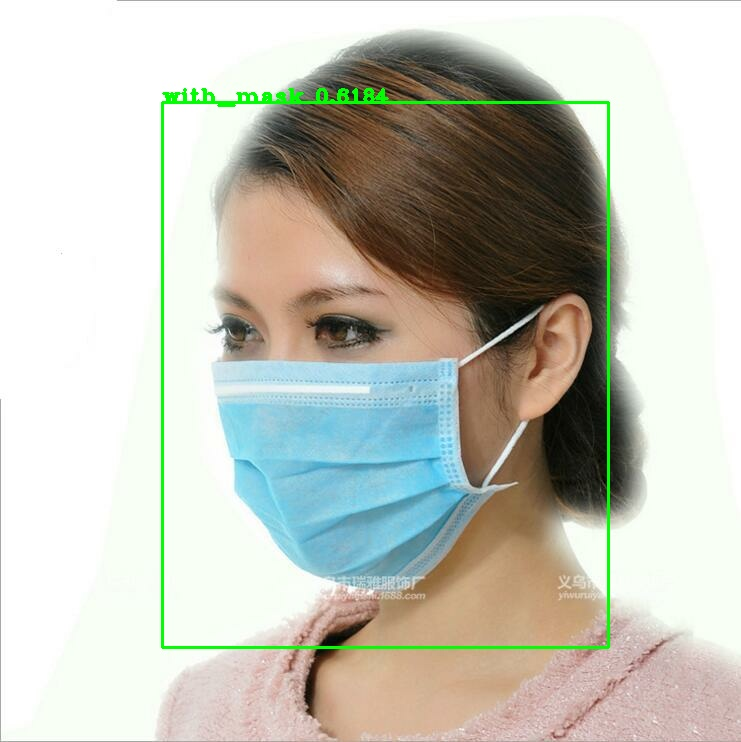with_mask: (193, 159, 595, 626)
